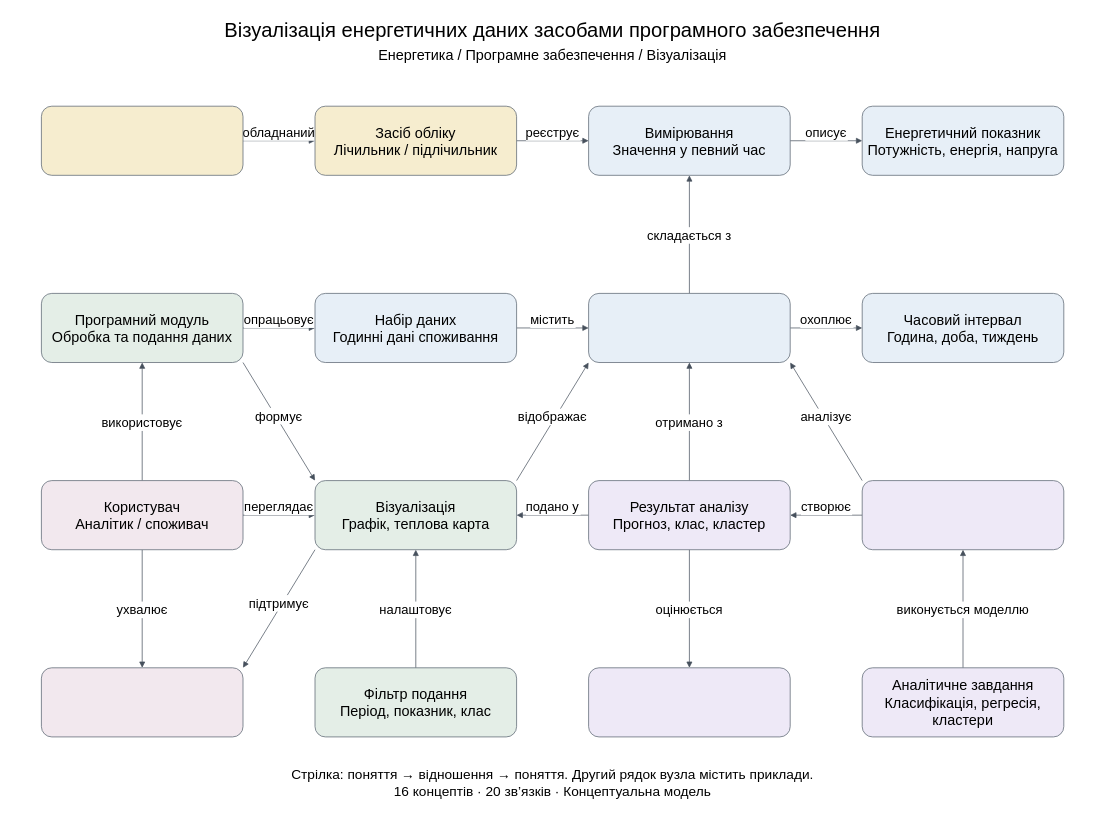
Some shapes in this 1104 by 831 pixel diagram are drawn without their labels. The shapes that lost their labels are listed below. From the top down, each one's centre as x and y in pixels, then its label:
point 142,140: Об’єкт споживання Домогосподарство
point 689,328: Часовий ряд Послідовність спостережень
point 962,515: Аналітична модель Прогнозування / класифікація / групування
point 142,702: Рішення користувача Перевірити режим споживання
point 689,702: Метрика якості Точність і похибка прогнозу
